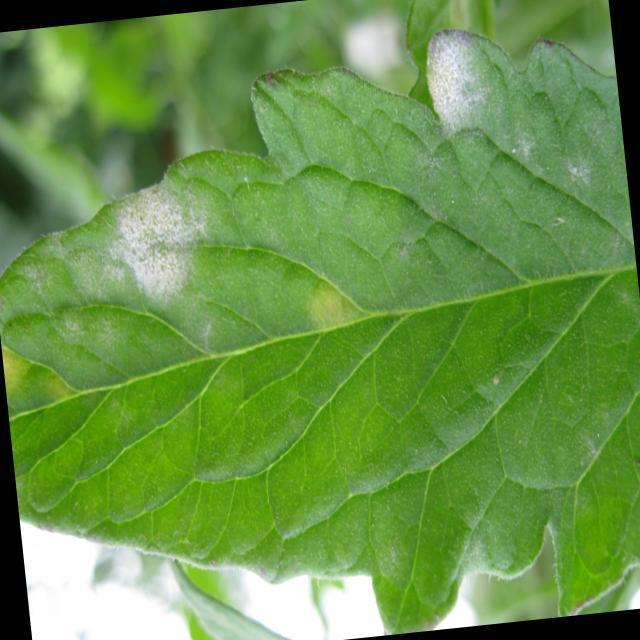Mosaic Virus: (0, 7, 640, 416)
